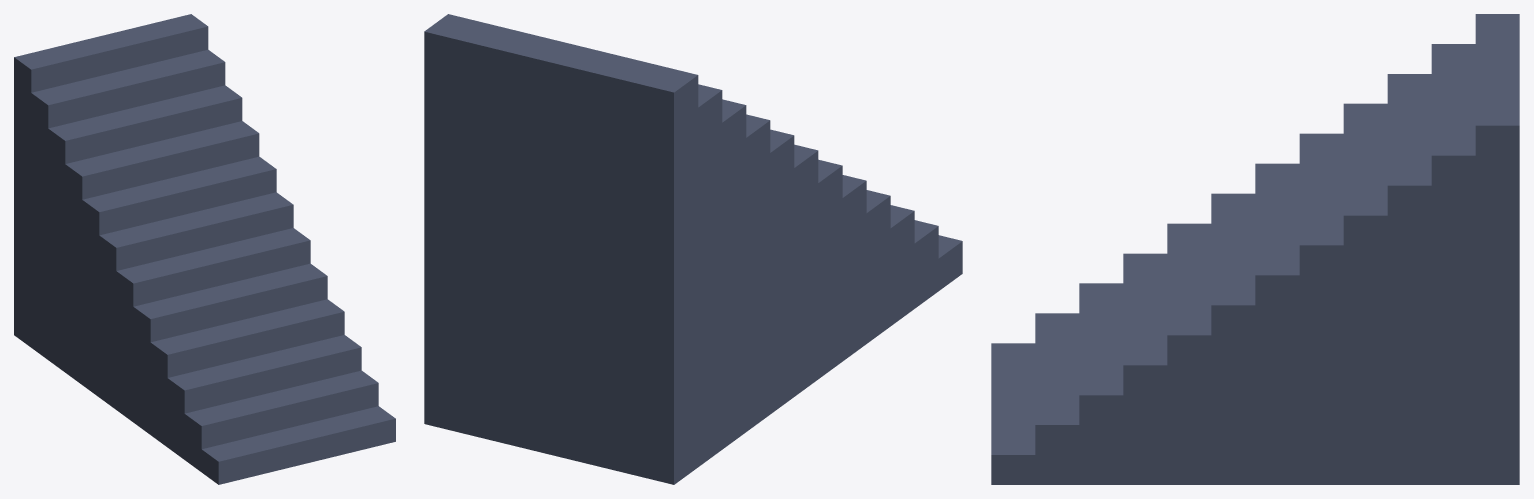
File: staircase.glb
3 renders of one model, left to right at view 1: azimuth 30°, elevation 25°; view 2: azimuth 150°, elevation 25°; view 3: azimuth 270°, elevation 25°, orthographic. The views are drawn at different scales.
Parts seen in each view (by area): view 1: stairs; view 2: stairs; view 3: stairs.
Part boxes in pixels (box(x1,y1,x2,y2)): stairs: box(14, 14, 395, 484); stairs: box(424, 14, 962, 484); stairs: box(991, 14, 1519, 484).
Bounding box in the file's own units: 2 × 3 × 4.
